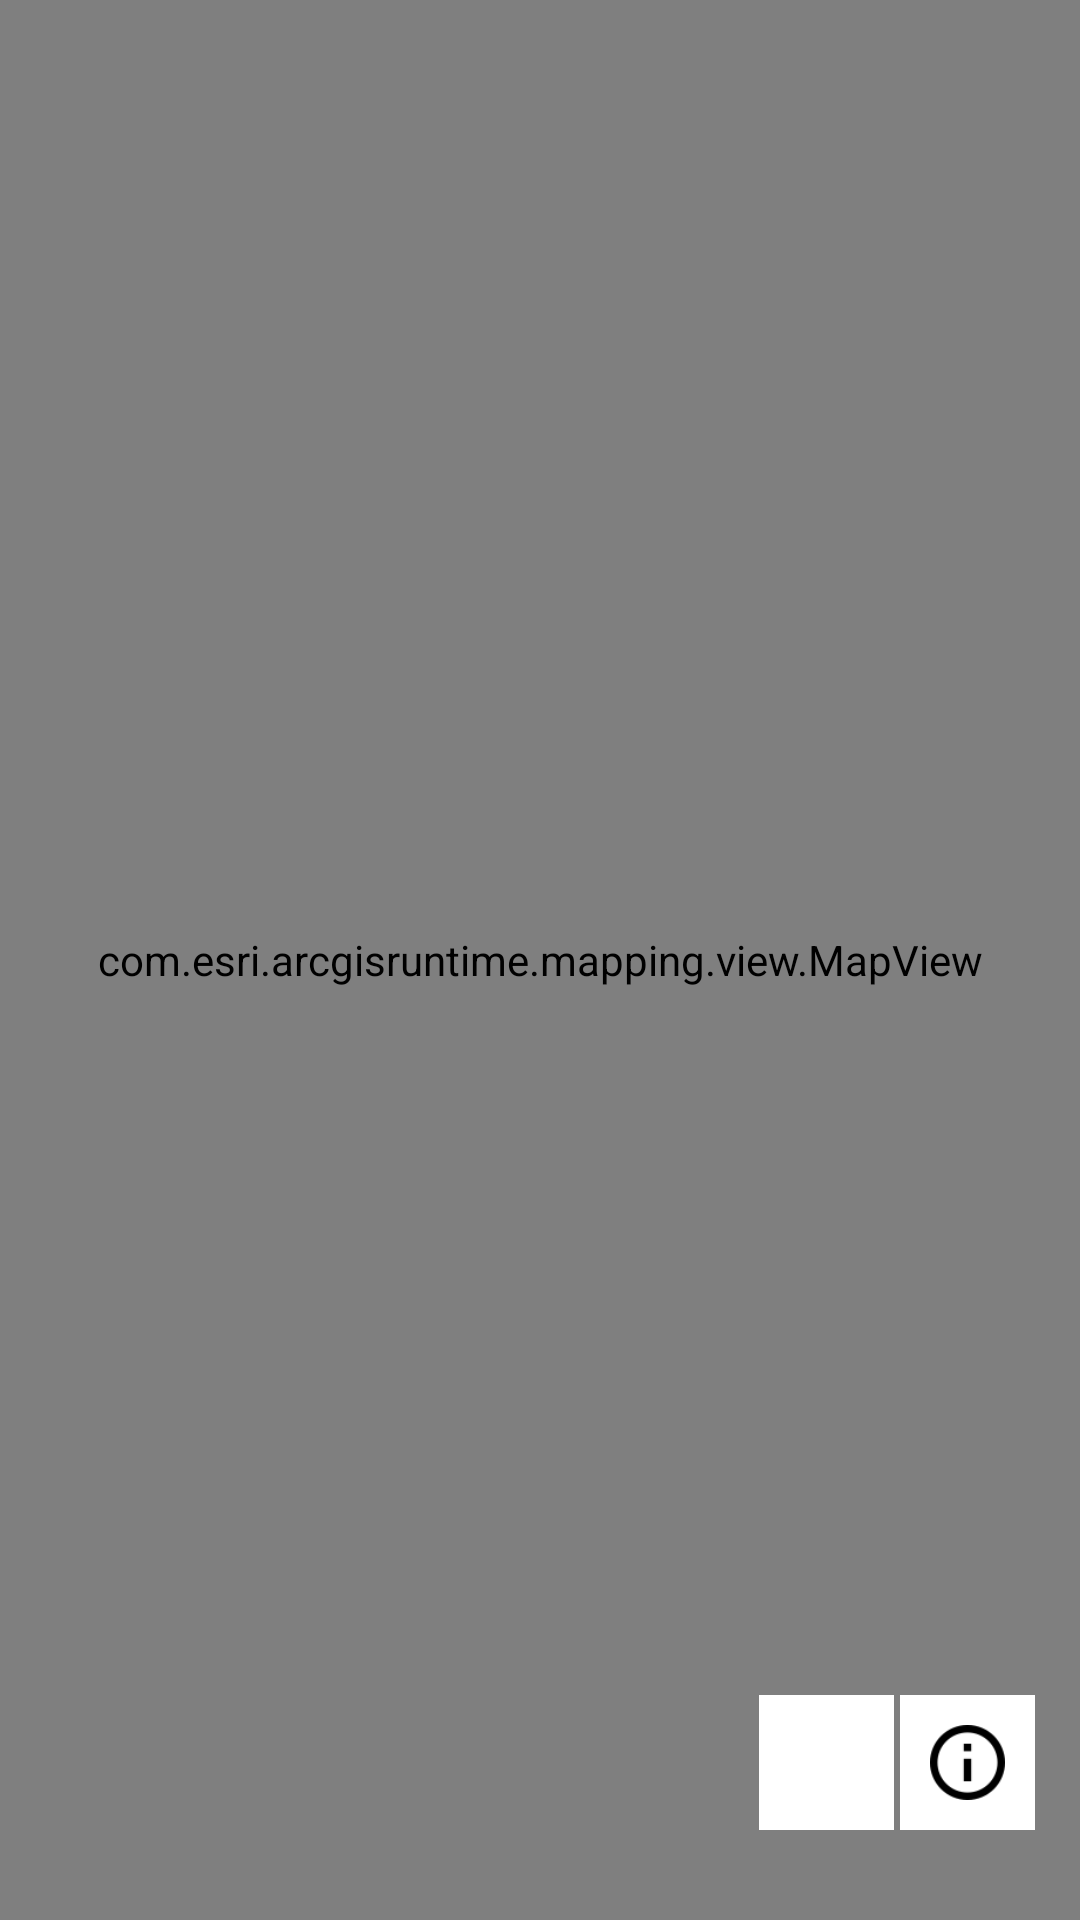

Point at icon controls on the screen. Image size 1080 × 1920, points as point (x, y).
info: point (967, 1762)
